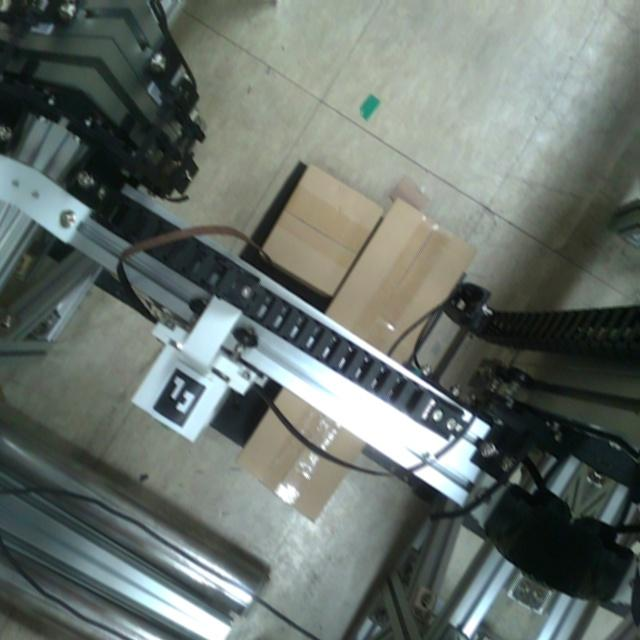box: (254, 156, 394, 302)
